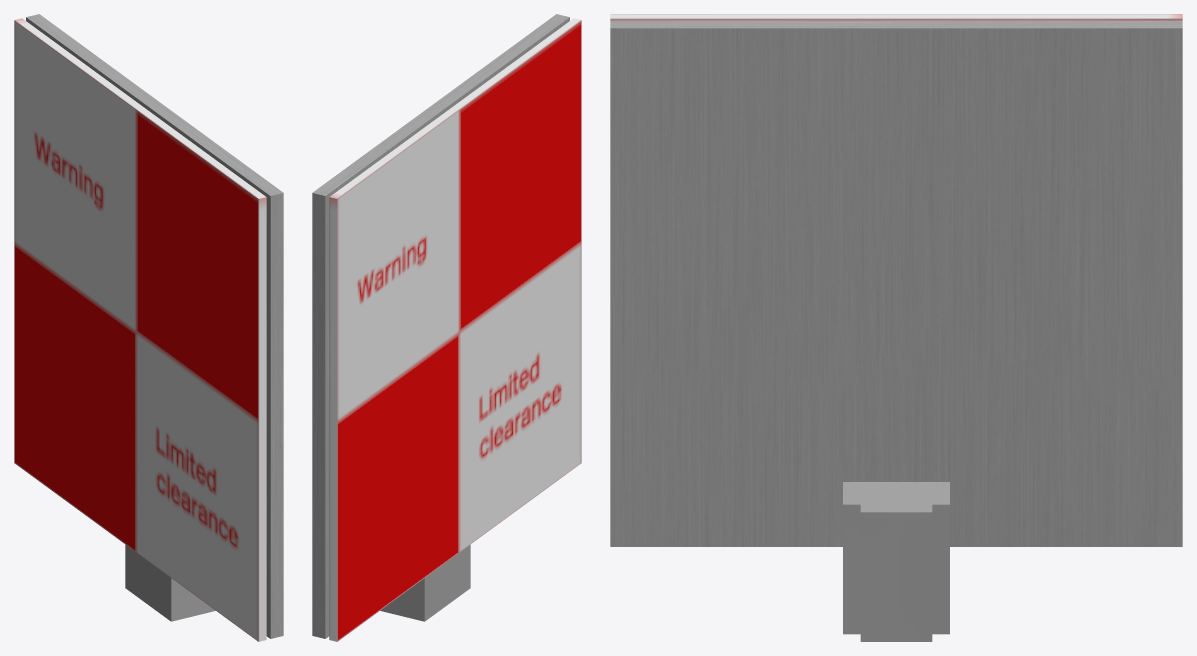
The model's file is limited_clearance_medium.obj.
3 views of the same model, side by side, from view 1: azimuth 30°, elevation 25°; view 2: azimuth 150°, elevation 25°; view 3: azimuth 270°, elevation 25° (orthographic). The views are drawn at different scales.
Parts seen in each view (by area): view 1: cube; view 2: cube; view 3: cube.
Part boxes in pixels (x1,y1,x2,y2): cube: (14,14,283,641); cube: (312,14,581,641); cube: (610,14,1182,641).
Size of the model in its own units: 0.0922 by 0.5625 by 0.5.
Materials: 2 (2 with a texture image).
